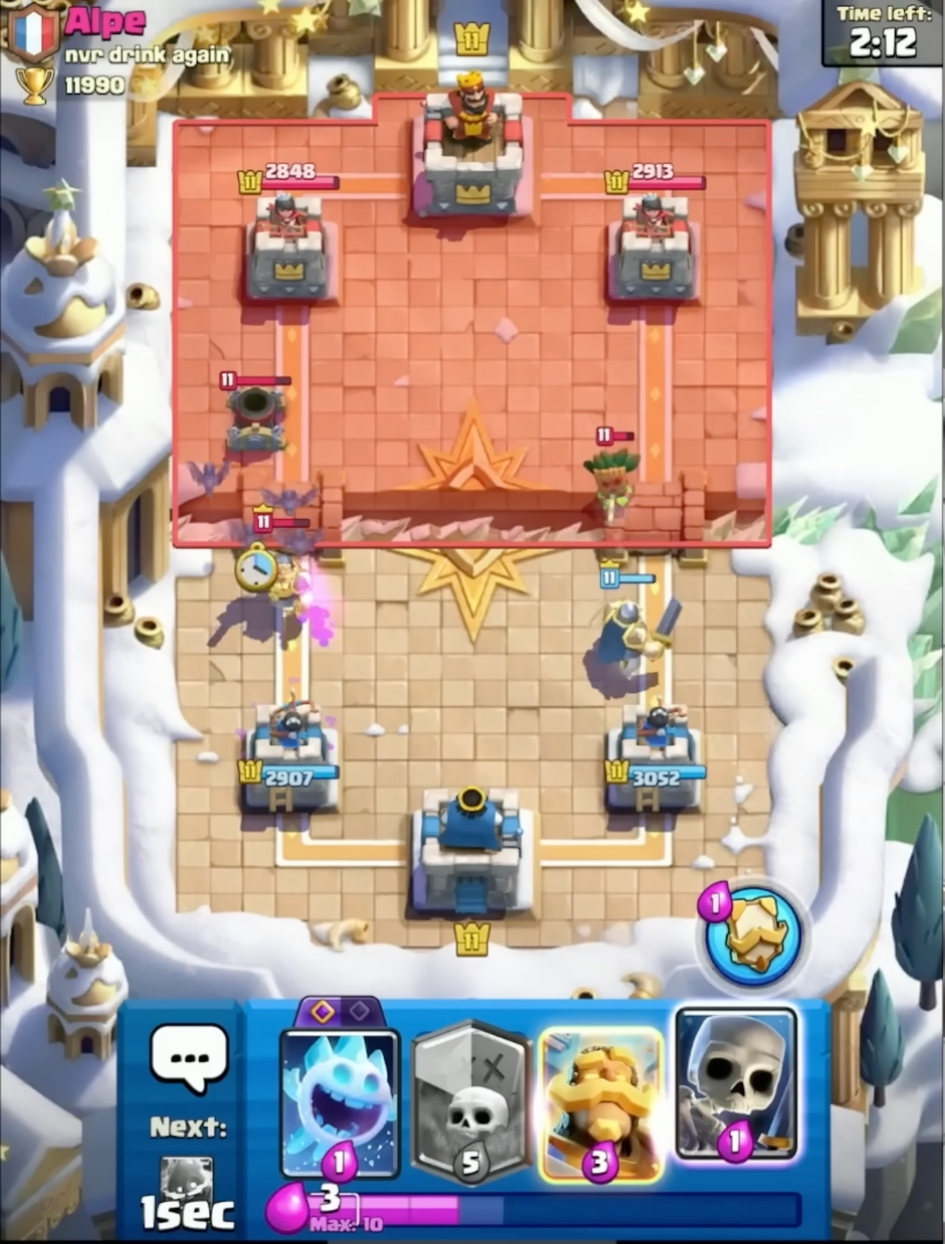dart-goblin: (574, 419, 645, 524)
hero-knight: (243, 506, 324, 628)
mortar: (208, 362, 303, 461)
